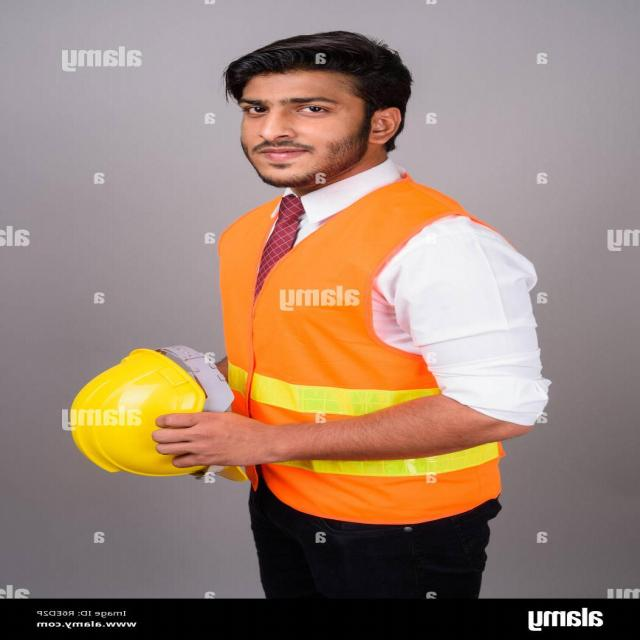Reflective-Jacket: (206, 176, 505, 518)
Safety-Helmet: (66, 342, 251, 482)
